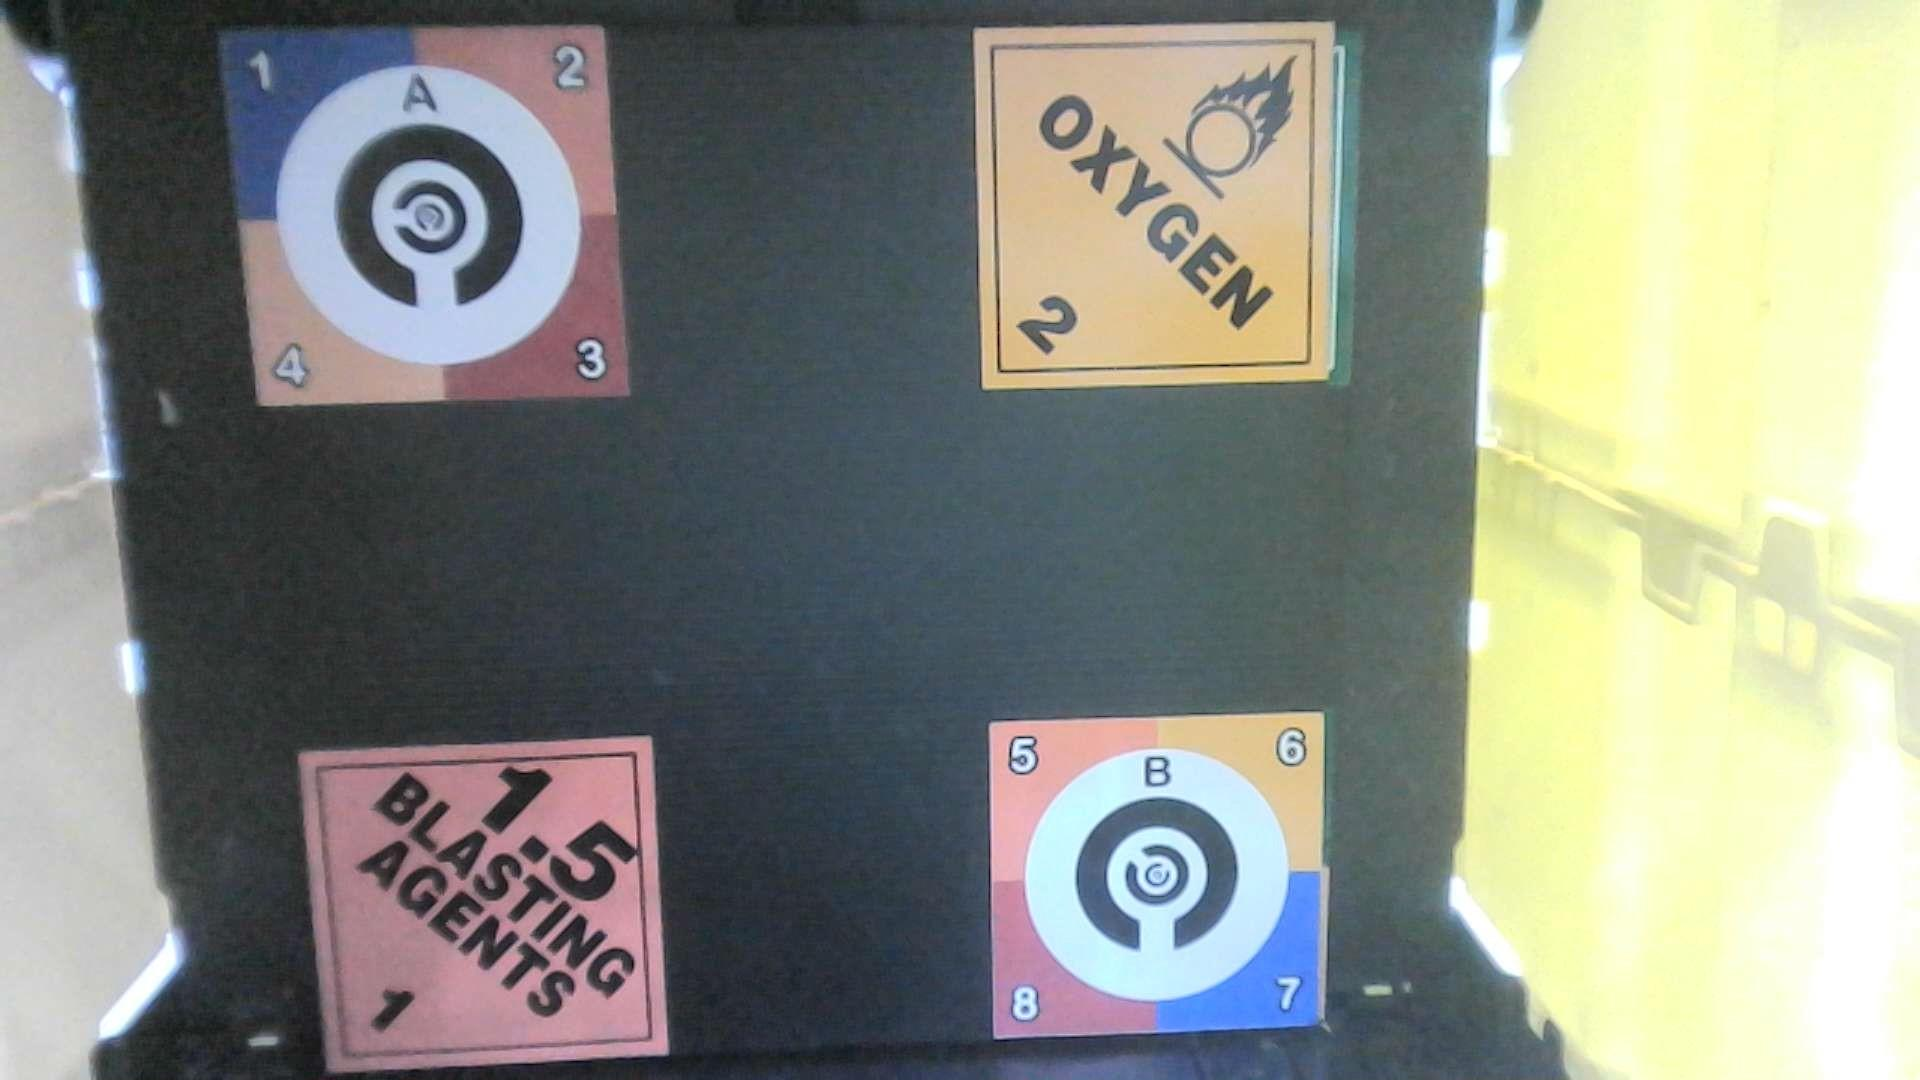explosive: (294, 754, 670, 1076)
oxidizer: (978, 37, 1327, 400)
